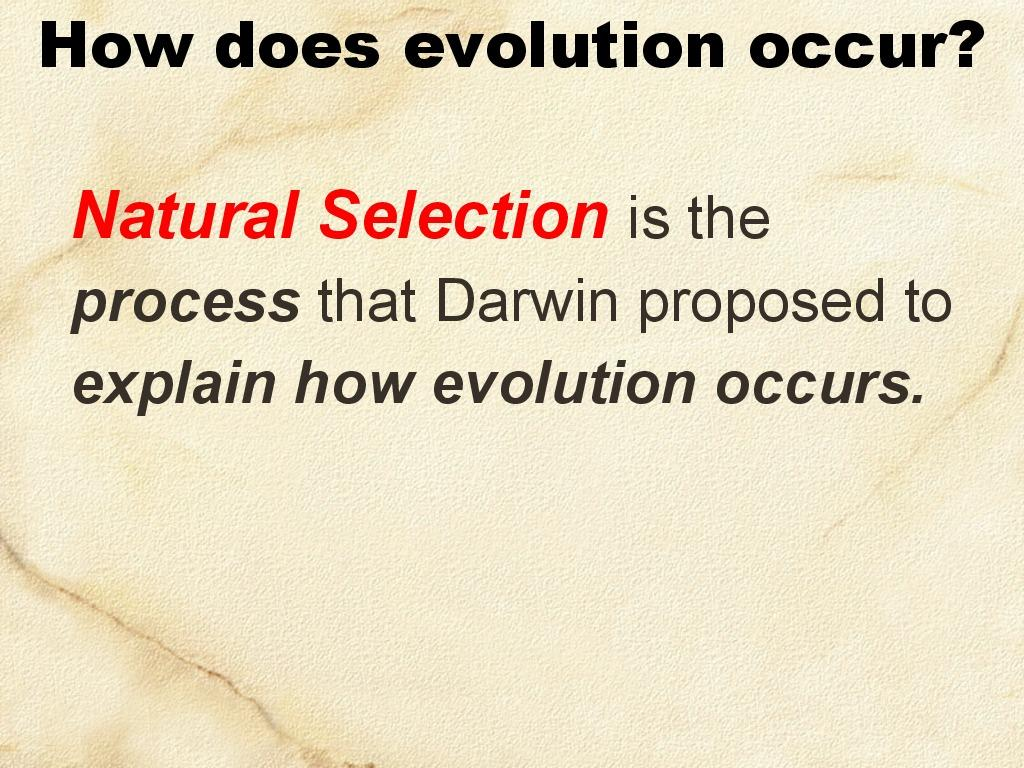paragraph: (62, 168, 990, 451)
title: (32, 7, 1002, 94)
